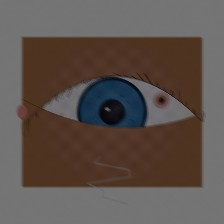foreign_body_visible: (148, 89, 175, 111)
